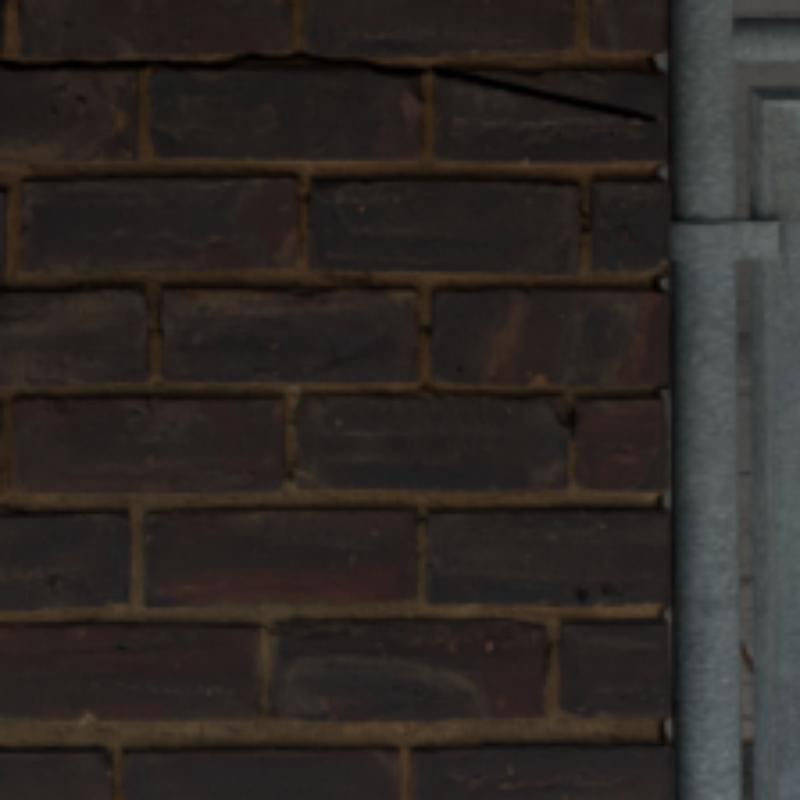crack: (0, 50, 654, 118)
